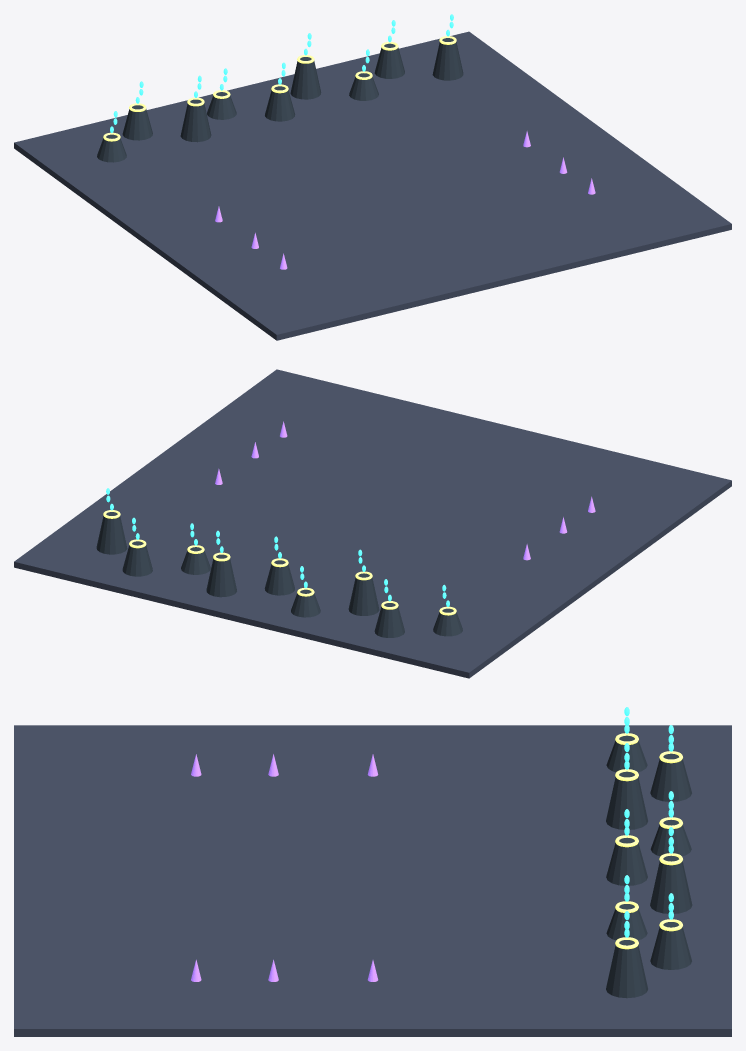
File: journey_abyss.glb
3 renders of one model, top to bottom at view 1: azimuth 30°, elevation 25°; view 2: azimuth 150°, elevation 25°; view 3: azimuth 270°, elevation 25°, orthographic. The views are drawn at different scales.
Parts seen in each view (by area): view 1: Scenery_Journey Abyss basalt, Scenery_Journey Graphite.001, Scenery_Journey Amber lamps.002, Scenery_Journey Cyan lamps.001; view 2: Scenery_Journey Abyss basalt, Scenery_Journey Graphite.001, Scenery_Journey Amber lamps.002, Scenery_Journey Cyan lamps.001; view 3: Scenery_Journey Abyss basalt, Scenery_Journey Graphite.001, Scenery_Journey Amber lamps.002, Scenery_Journey Cyan lamps.001, Scenery_Journey Violet life.001.
Boxes of the visible parts, bbox=[...] form: Scenery_Journey Abyss basalt: bbox=[14, 31, 731, 340]; Scenery_Journey Graphite.001: bbox=[97, 38, 463, 162]; Scenery_Journey Amber lamps.002: bbox=[103, 36, 456, 141]; Scenery_Journey Cyan lamps.001: bbox=[110, 14, 453, 132]; Scenery_Journey Abyss basalt: bbox=[14, 369, 731, 678]; Scenery_Journey Graphite.001: bbox=[96, 512, 462, 637]; Scenery_Journey Amber lamps.002: bbox=[103, 510, 456, 615]; Scenery_Journey Cyan lamps.001: bbox=[106, 488, 449, 606]; Scenery_Journey Abyss basalt: bbox=[14, 725, 731, 1036]; Scenery_Journey Graphite.001: bbox=[606, 735, 692, 998]; Scenery_Journey Amber lamps.002: bbox=[615, 733, 682, 949]; Scenery_Journey Cyan lamps.001: bbox=[624, 707, 673, 937]; Scenery_Journey Violet life.001: bbox=[191, 754, 378, 981].
Bounding box in the file's own units: 65 × 8.85 × 65.
